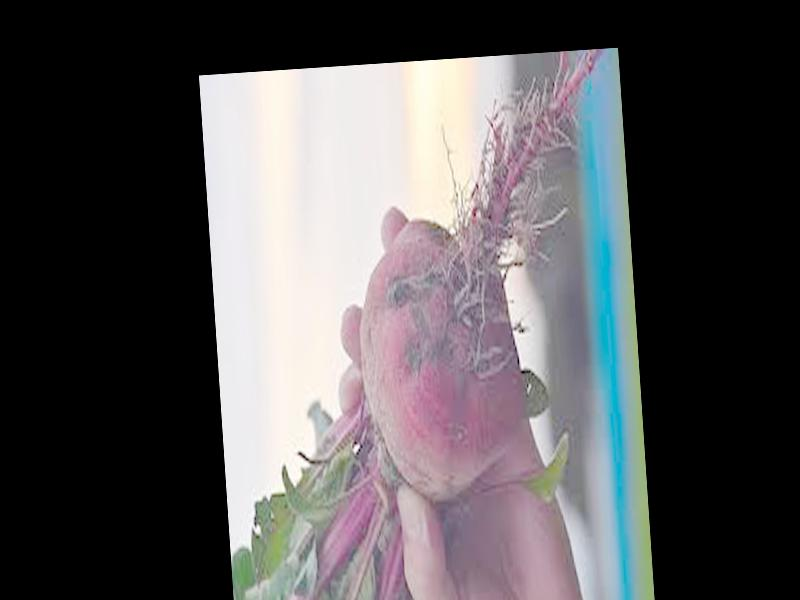Beet: (200, 48, 635, 600)
